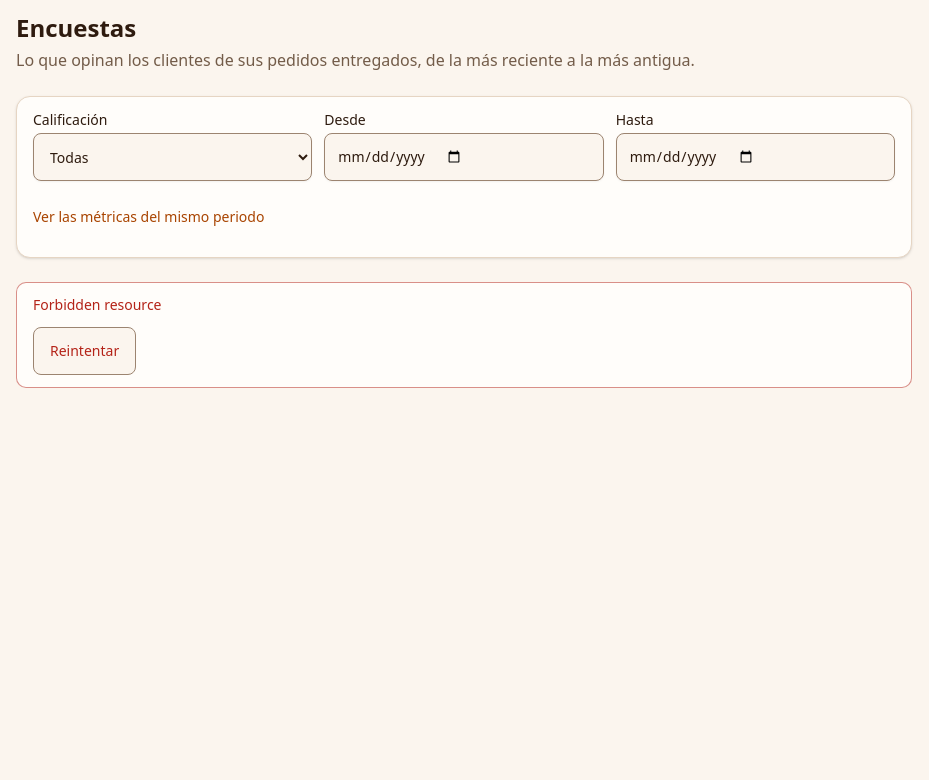
Scenario: SurveysView › error del back: se muestra y «Reintentar» vuelve a pedir
Expected: the message "Forbidden resource Reintentar" is shown, [16, 282, 912, 388]
Step 1. Click the button "Reintentar" → (85, 351), box [33, 327, 136, 375]
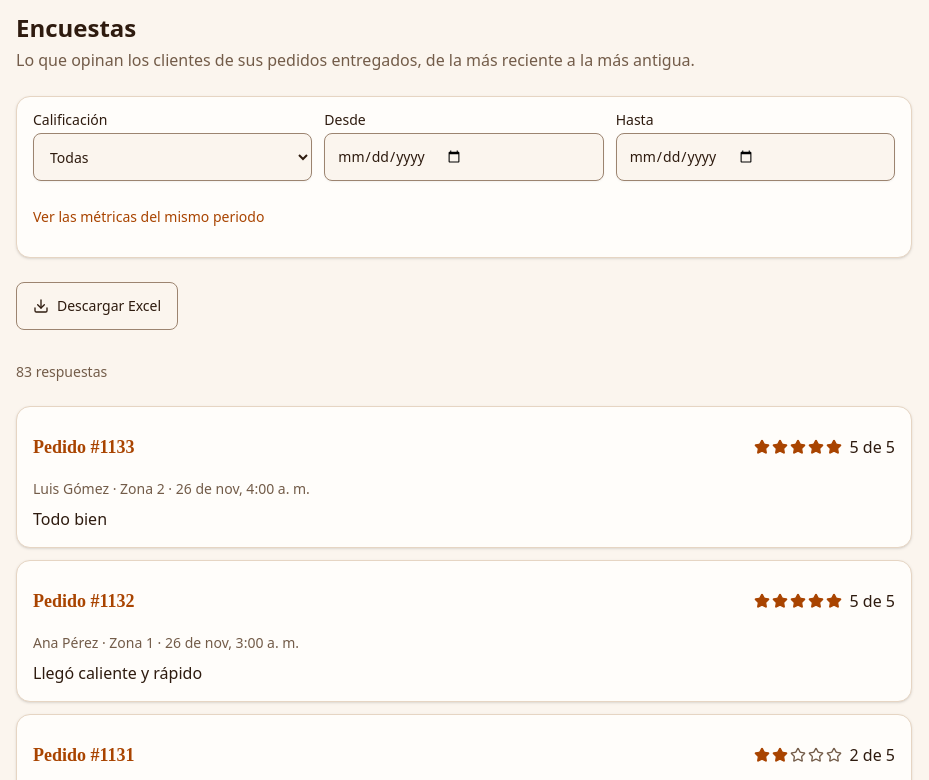
Expected: the 1st list item is shown, [16, 406, 912, 548]
